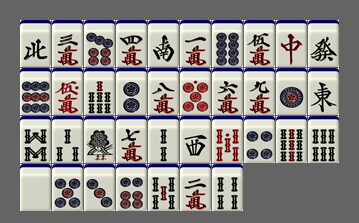0m: (52, 68, 83, 115)
0p: (180, 68, 211, 115)
0s: (212, 116, 243, 163)
1m: (180, 20, 211, 67)
1p: (276, 68, 307, 115)
1s: (84, 116, 115, 163)
1z: (308, 68, 339, 115)
2m: (180, 164, 211, 211)
2p: (116, 68, 147, 115)
2s: (148, 116, 179, 163)
2z: (148, 20, 179, 67)
3m: (52, 20, 83, 67)
3p: (84, 164, 115, 211)
3s: (52, 116, 83, 163)
3z: (180, 116, 211, 163)
4m: (116, 20, 147, 67)
4p: (244, 116, 275, 163)
4s: (212, 164, 243, 211)
4z: (20, 20, 51, 67)
5m: (244, 20, 275, 67)
5p: (52, 164, 83, 211)
5s: (148, 164, 179, 211)
5z: (20, 164, 51, 211)
6m: (212, 68, 243, 115)
6p: (116, 164, 147, 211)
6s: (308, 116, 339, 163)
6z: (308, 20, 339, 67)
7m: (116, 116, 147, 163)
7p: (84, 20, 115, 67)
7s: (84, 68, 115, 115)
7z: (276, 20, 307, 67)
8m: (148, 68, 179, 115)
8p: (212, 20, 243, 67)
8s: (20, 116, 51, 163)
9m: (244, 68, 275, 115)
9p: (20, 68, 51, 115)
9s: (276, 116, 307, 163)
